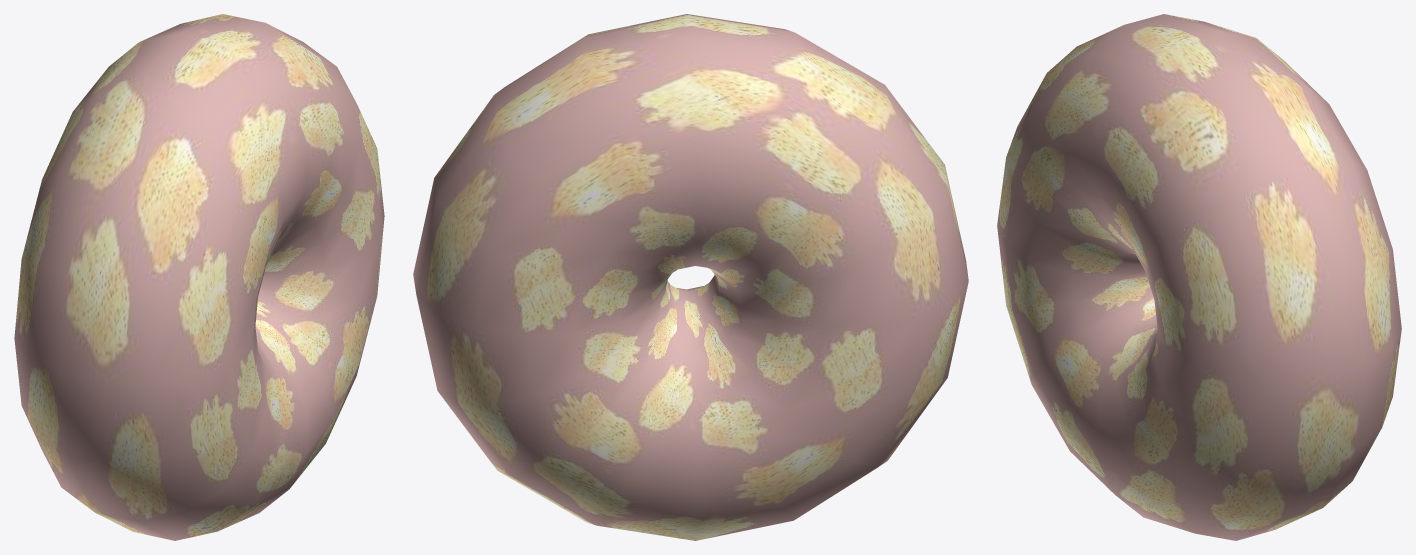
File: donut.dae
3 renders of one model, left to right at view 1: azimuth 30°, elevation 25°; view 2: azimuth 150°, elevation 25°; view 3: azimuth 270°, elevation 25°, orthographic. The views are drawn at different scales.
Parts seen in each view (by area): view 1: 円の回転体; view 2: 円の回転体; view 3: 円の回転体.
Part boxes in pixels (<box>): 円の回転体: <box>14,14,384,540</box>; 円の回転体: <box>413,14,968,540</box>; 円の回転体: <box>997,14,1401,540</box>.
Bounding box in the file's own units: 233 × 253 × 193.
1 material, 1 textured.
